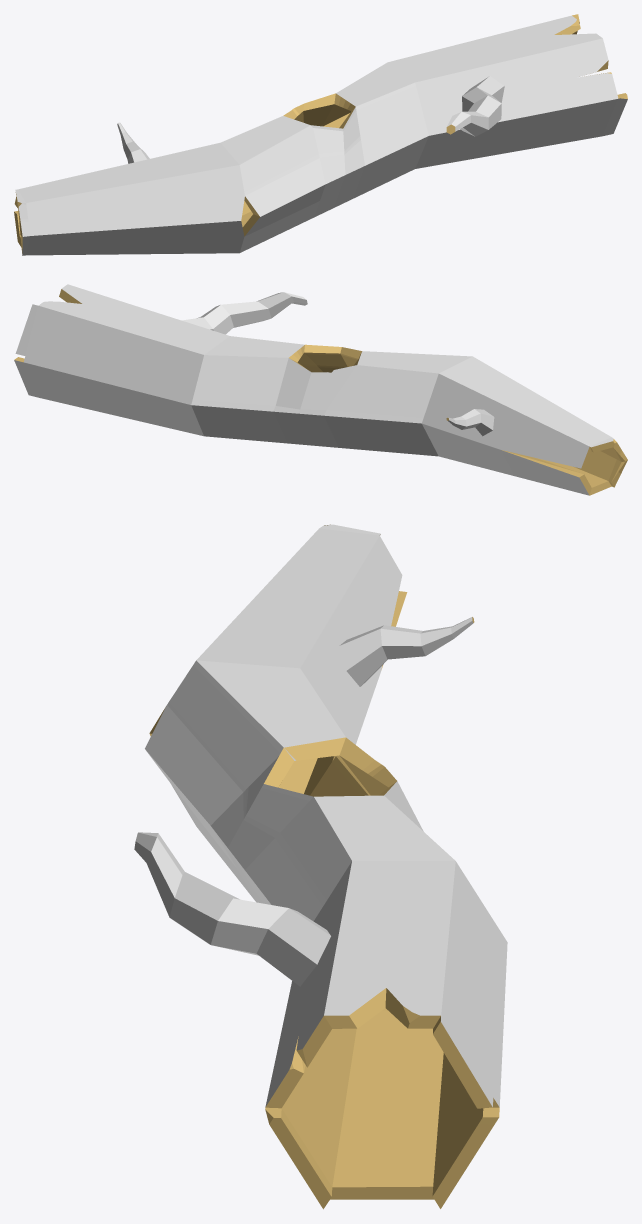
The model's file is treetrunk.fbx.
3 renders of one model, top to bottom at view 1: azimuth 30°, elevation 25°; view 2: azimuth 150°, elevation 25°; view 3: azimuth 270°, elevation 25°, orthographic. The views are drawn at different scales.
Visible parts, largest first — view 1: Circle; view 2: Circle; view 3: Circle.
Part boxes in pixels (x1=…): Circle: x1=14, y1=14, x2=627, y2=255; Circle: x1=14, y1=284, x2=627, y2=495; Circle: x1=134, y1=524, x2=507, y2=1209.
Size of the model in its own units: 169 by 27.59 by 48.48.
